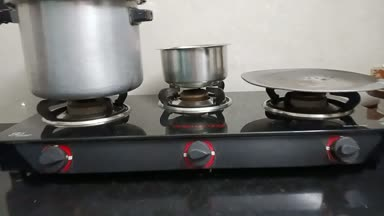flame_gas_off: (274, 90, 367, 168), (34, 93, 112, 175), (165, 86, 228, 169)
